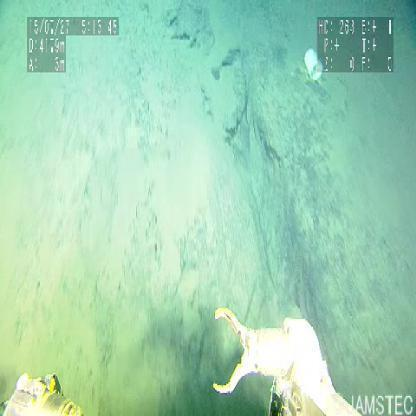Rác: (304, 50, 323, 84)
